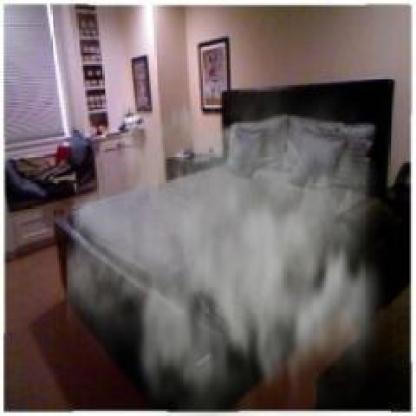Smoke: (67, 63, 403, 414)
